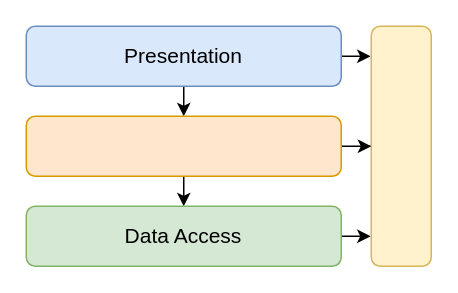
Image size: 458x293. Some labels were removed from this diagram. Here are the shapes that lost their labels. From the top down, the centre of each, then its label:
At point (183, 145): "Bussiness".
At point (400, 145): "Infrastructure".
